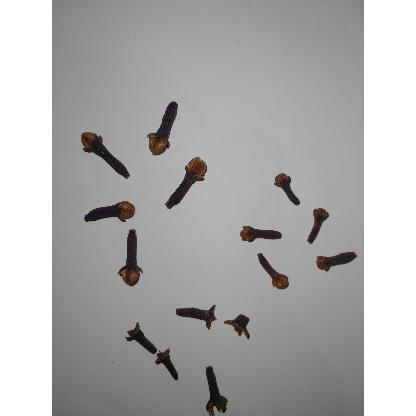baik: (80, 132, 130, 179), (165, 157, 207, 210), (146, 101, 178, 158), (118, 230, 143, 287), (84, 202, 135, 224)
buruk: (205, 366, 228, 416), (176, 304, 217, 330), (125, 322, 157, 354), (154, 348, 179, 380), (224, 314, 250, 338)
sedang: (257, 252, 290, 292), (273, 172, 302, 207), (306, 207, 330, 244), (315, 251, 357, 272), (239, 224, 282, 243)
